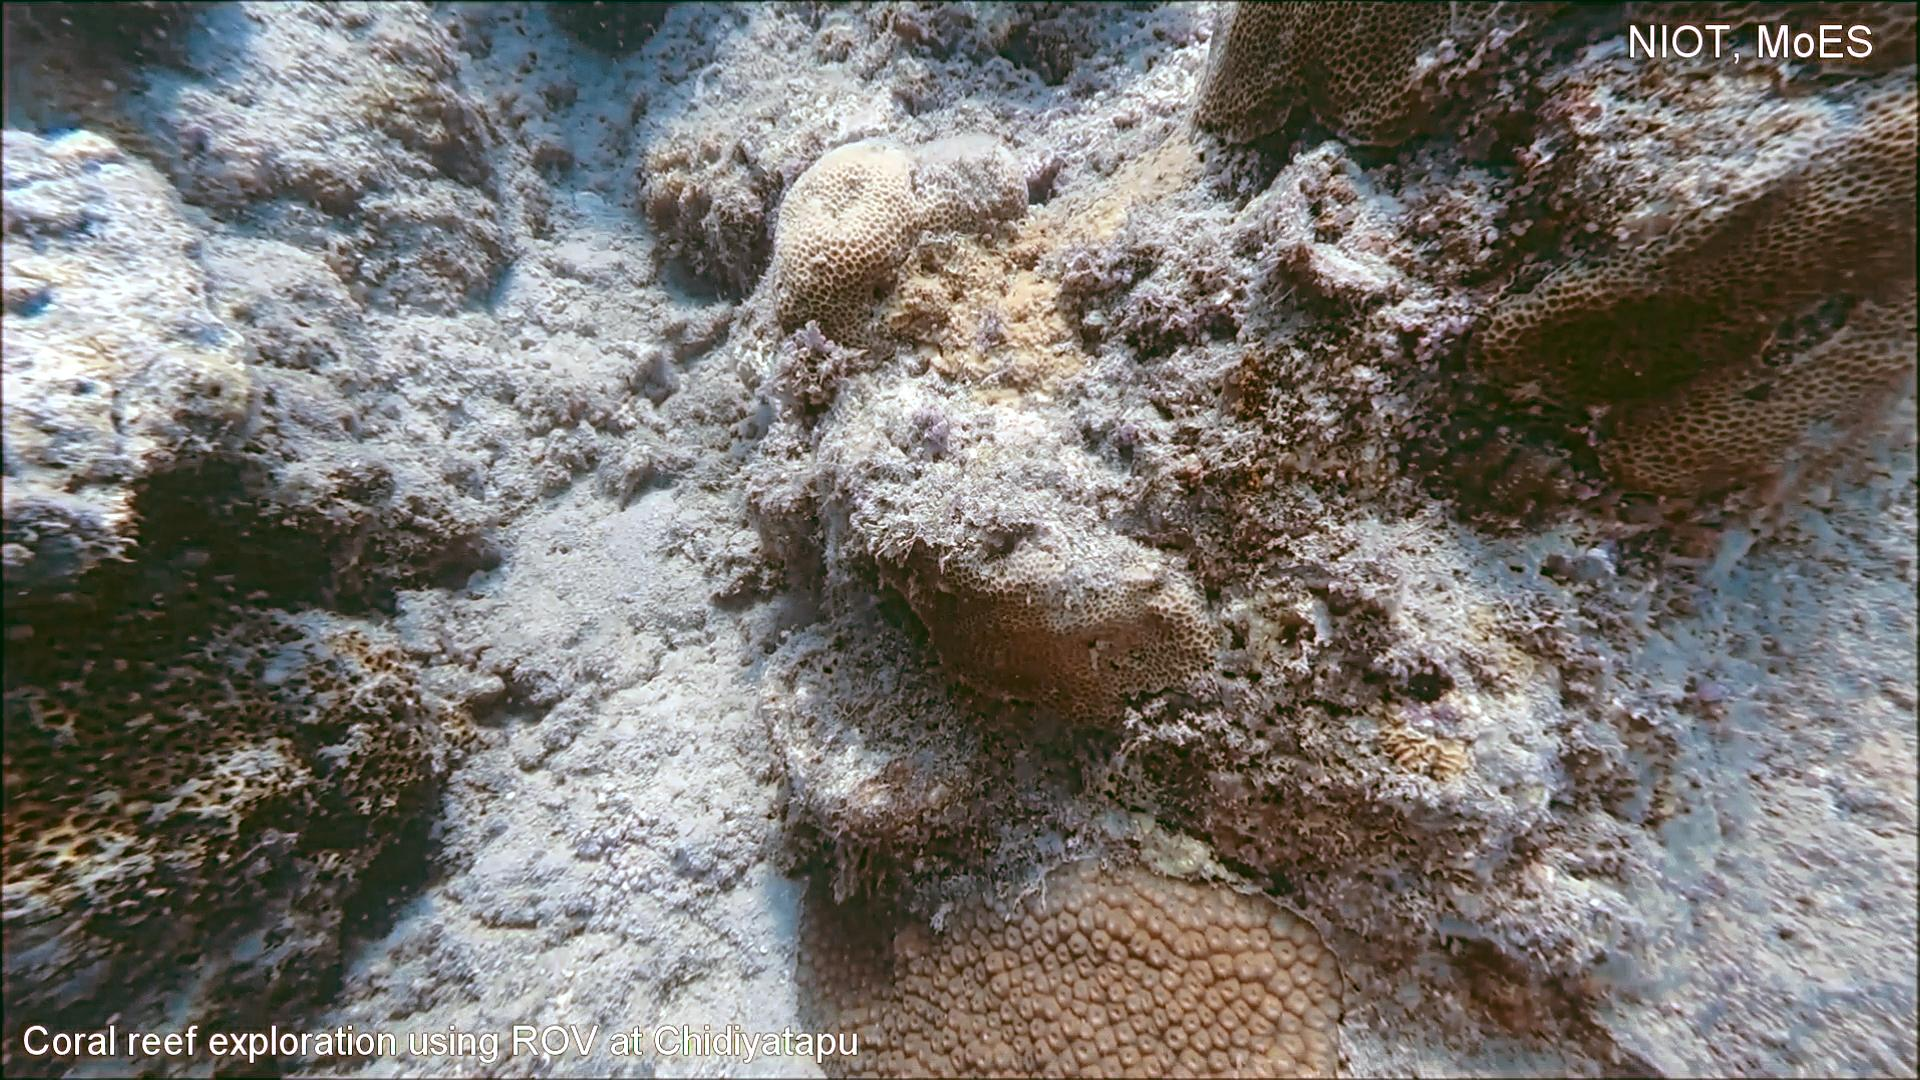Montastraea: (789, 832, 1356, 1080)
